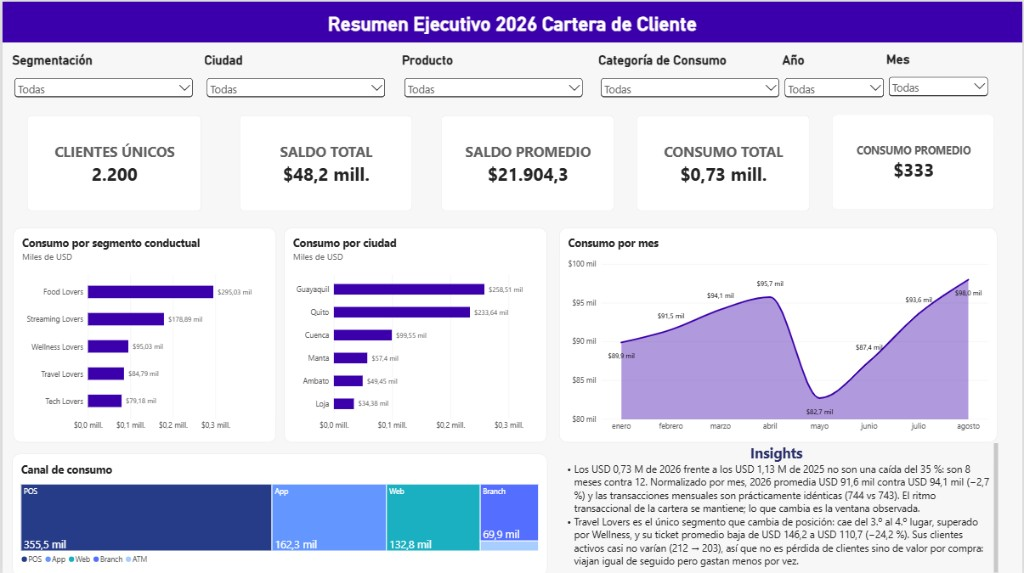

The page's visual inventory and layout, read from the dashboard file:
{"tool":"powerbi","page":{"name":"Resumen Ejecutivo 2026","canvas":[1920,1080],"ordinal":1},"visuals":[{"type":"cardVisual","fields":{"Data":["Medidas.Clientes Únicos"]},"box":[40,208,340,192],"z":0},{"type":"cardVisual","title":"CONSUMO TOTAL","fields":{"Data":["Medidas.Saldo Total"]},"box":[440,207.5,337,192.5],"z":1000},{"type":"cardVisual","title":"CONSUMO TOTAL","fields":{"Data":["Medidas.Saldo Promedio por Cliente"]},"box":[820,207.5,337,192.5],"z":2000},{"type":"cardVisual","title":"CONSUMO TOTAL","fields":{"Data":["Medidas.Consumo Total"]},"box":[1187.5,207.5,337,192.5],"z":3000},{"type":"slicer","title":"Segmentación","fields":{"Values":["Criterios.Segmento"]},"box":[17.5,95,345,87.5],"z":4000},{"type":"textbox","title":"Resumen Ejecutivo 2026 Cartera de Cliente ","box":[0,0,1920,95],"z":5000},{"type":"slicer","title":"Ciudad","fields":{"Values":["Vista_Cliente.ciudad"]},"box":[380,95,345,87.5],"z":6000},{"type":"slicer","title":"Producto","fields":{"Values":["Base_Limpia.producto"]},"box":[752.5,95,345,87.5],"z":7000},{"type":"slicer","title":"Categoría de Consumo","fields":{"Values":["Base_Limpia.categoria_consumo"]},"box":[1122.5,95,345,87.5],"z":8000},{"type":"cardVisual","title":"CONSUMO TOTAL","fields":{"Data":["Medidas.Consumo Promedio por Cliente"]},"box":[1555,205,317.5,192.5],"z":9000},{"type":"clusteredBarChart","title":"Consumo por segmento conductual","fields":{"Category":["Segmentacion_cliente.segmento_cliente"],"Y":["Medidas.Consumo Total"]},"box":[20,425,495,405],"z":10000},{"type":"clusteredBarChart","title":"Consumo por ciudad","fields":{"Category":["Base_Limpia.ciudad"],"Y":["Medidas.Consumo Total"]},"box":[530,425,495,405],"z":11000},{"type":"lineChart","title":"Consumo por mes","fields":{"Category":["Base_Limpia.fecha_movimiento.Variación.Jerarquía de fechas.Mes"],"Y":["Medidas.Consumo Total"]},"box":[1047.5,425,825,405],"z":12000},{"type":"treemap","title":"Canal de consumo","fields":{"Group":["Base_Limpia.canal"],"Values":["Sum(Base_Limpia.monto_consumo)"]},"box":[18,852,1008,230],"z":13000},{"type":"textbox","box":[1048,832,826,248],"z":14000},{"type":"slicer","title":"Año","fields":{"Values":["Base_Limpia.fecha_movimiento.Variación.Jerarquía de fechas.Año"]},"box":[1468,96,196,88],"z":15000},{"type":"slicer","title":"Mes","fields":{"Values":["Base_Limpia.fecha_movimiento.Variación.Jerarquía de fechas.Mes"]},"box":[1664,94,196,88],"z":16000}]}

Visuals, with their boxes in screenshot pixels (x1, y1, x2, y2), scaled from the page's 1920x1080 canvas onto the 1024x573 screenshot:
cardVisual - Medidas.Clientes Únicos: <bbox>21, 110, 203, 212</bbox>
"CONSUMO TOTAL" cardVisual: <bbox>235, 110, 414, 212</bbox>
"CONSUMO TOTAL" cardVisual: <bbox>437, 110, 617, 212</bbox>
"CONSUMO TOTAL" cardVisual: <bbox>633, 110, 813, 212</bbox>
"Segmentación" slicer: <bbox>9, 50, 193, 97</bbox>
"Resumen Ejecutivo 2026 Cartera de Cliente " textbox: <bbox>0, 0, 1023, 50</bbox>
"Ciudad" slicer: <bbox>203, 50, 387, 97</bbox>
"Producto" slicer: <bbox>401, 50, 585, 97</bbox>
"Categoría de Consumo" slicer: <bbox>599, 50, 783, 97</bbox>
"CONSUMO TOTAL" cardVisual: <bbox>829, 109, 999, 211</bbox>
"Consumo por segmento conductual" clusteredBarChart: <bbox>11, 225, 275, 440</bbox>
"Consumo por ciudad" clusteredBarChart: <bbox>283, 225, 547, 440</bbox>
"Consumo por mes" lineChart: <bbox>559, 225, 999, 440</bbox>
"Canal de consumo" treemap: <bbox>10, 452, 547, 572</bbox>
textbox: <bbox>559, 441, 999, 572</bbox>
"Año" slicer: <bbox>783, 51, 887, 98</bbox>
"Mes" slicer: <bbox>887, 50, 992, 97</bbox>
